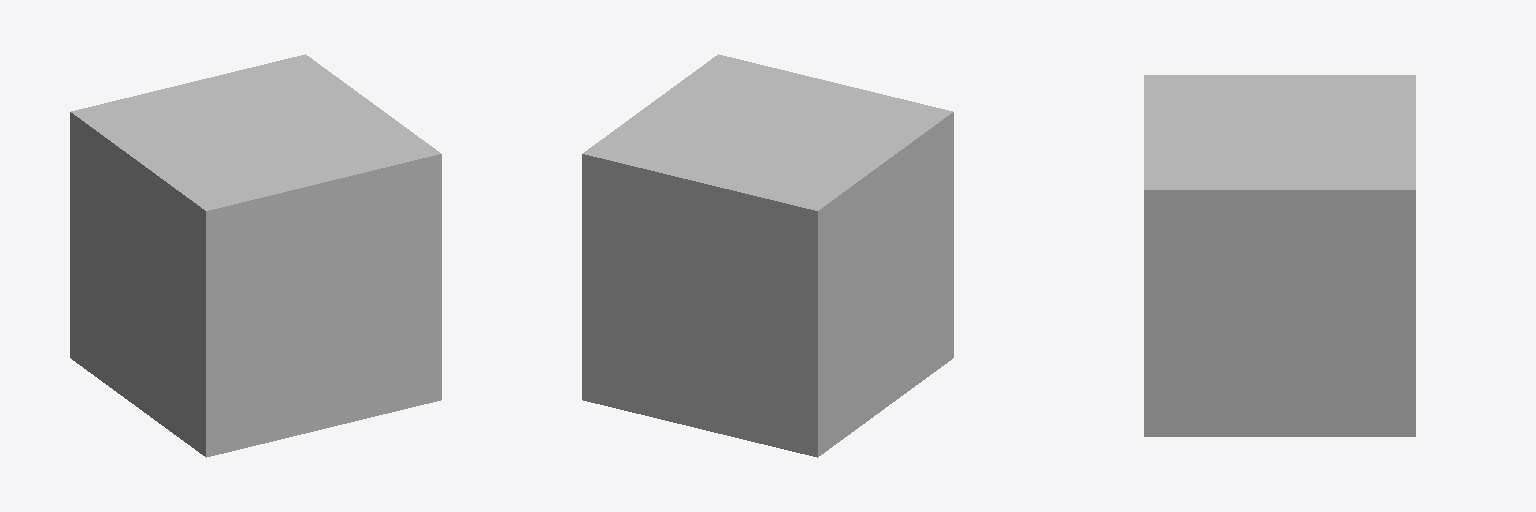
Rendered from cubes_wall8.obj.
3 views of the same model, side by side, from view 1: azimuth 30°, elevation 25°; view 2: azimuth 150°, elevation 25°; view 3: azimuth 270°, elevation 25° (orthographic).
Size of the model in its own units: 0.1 by 0.1 by 0.1.